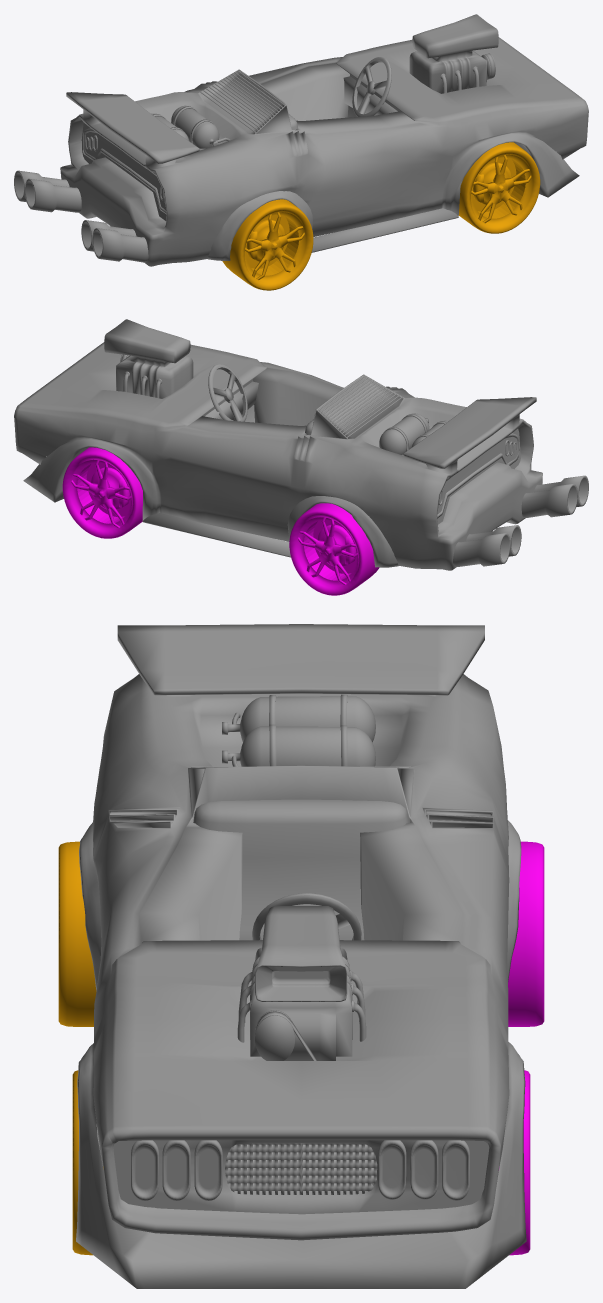
Rendered from car UV.FBX.
3 renders of one model, top to bottom at view 1: azimuth 30°, elevation 25°; view 2: azimuth 150°, elevation 25°; view 3: azimuth 270°, elevation 25°, orthographic. The views are drawn at different scales.
Parts seen in each view (by area): view 1: Chasis, Object023, Object026; view 2: Chasis, Object027, Object028; view 3: Chasis, Object027, Object023, Object028, Object026.
Part boxes in pixels (bbox=[...]): Chasis: bbox=[14, 14, 588, 266]; Object023: bbox=[222, 199, 313, 290]; Object026: bbox=[458, 142, 540, 233]; Chasis: bbox=[14, 319, 588, 570]; Object027: bbox=[289, 503, 379, 595]; Object028: bbox=[62, 447, 142, 538]; Chasis: bbox=[76, 624, 526, 1288]; Object027: bbox=[508, 841, 544, 1026]; Object023: bbox=[58, 841, 96, 1026]; Object028: bbox=[499, 1070, 530, 1255]; Object026: bbox=[72, 1070, 103, 1255].
Bounding box in the file's own units: 91.98 × 29.48 × 40.28.
